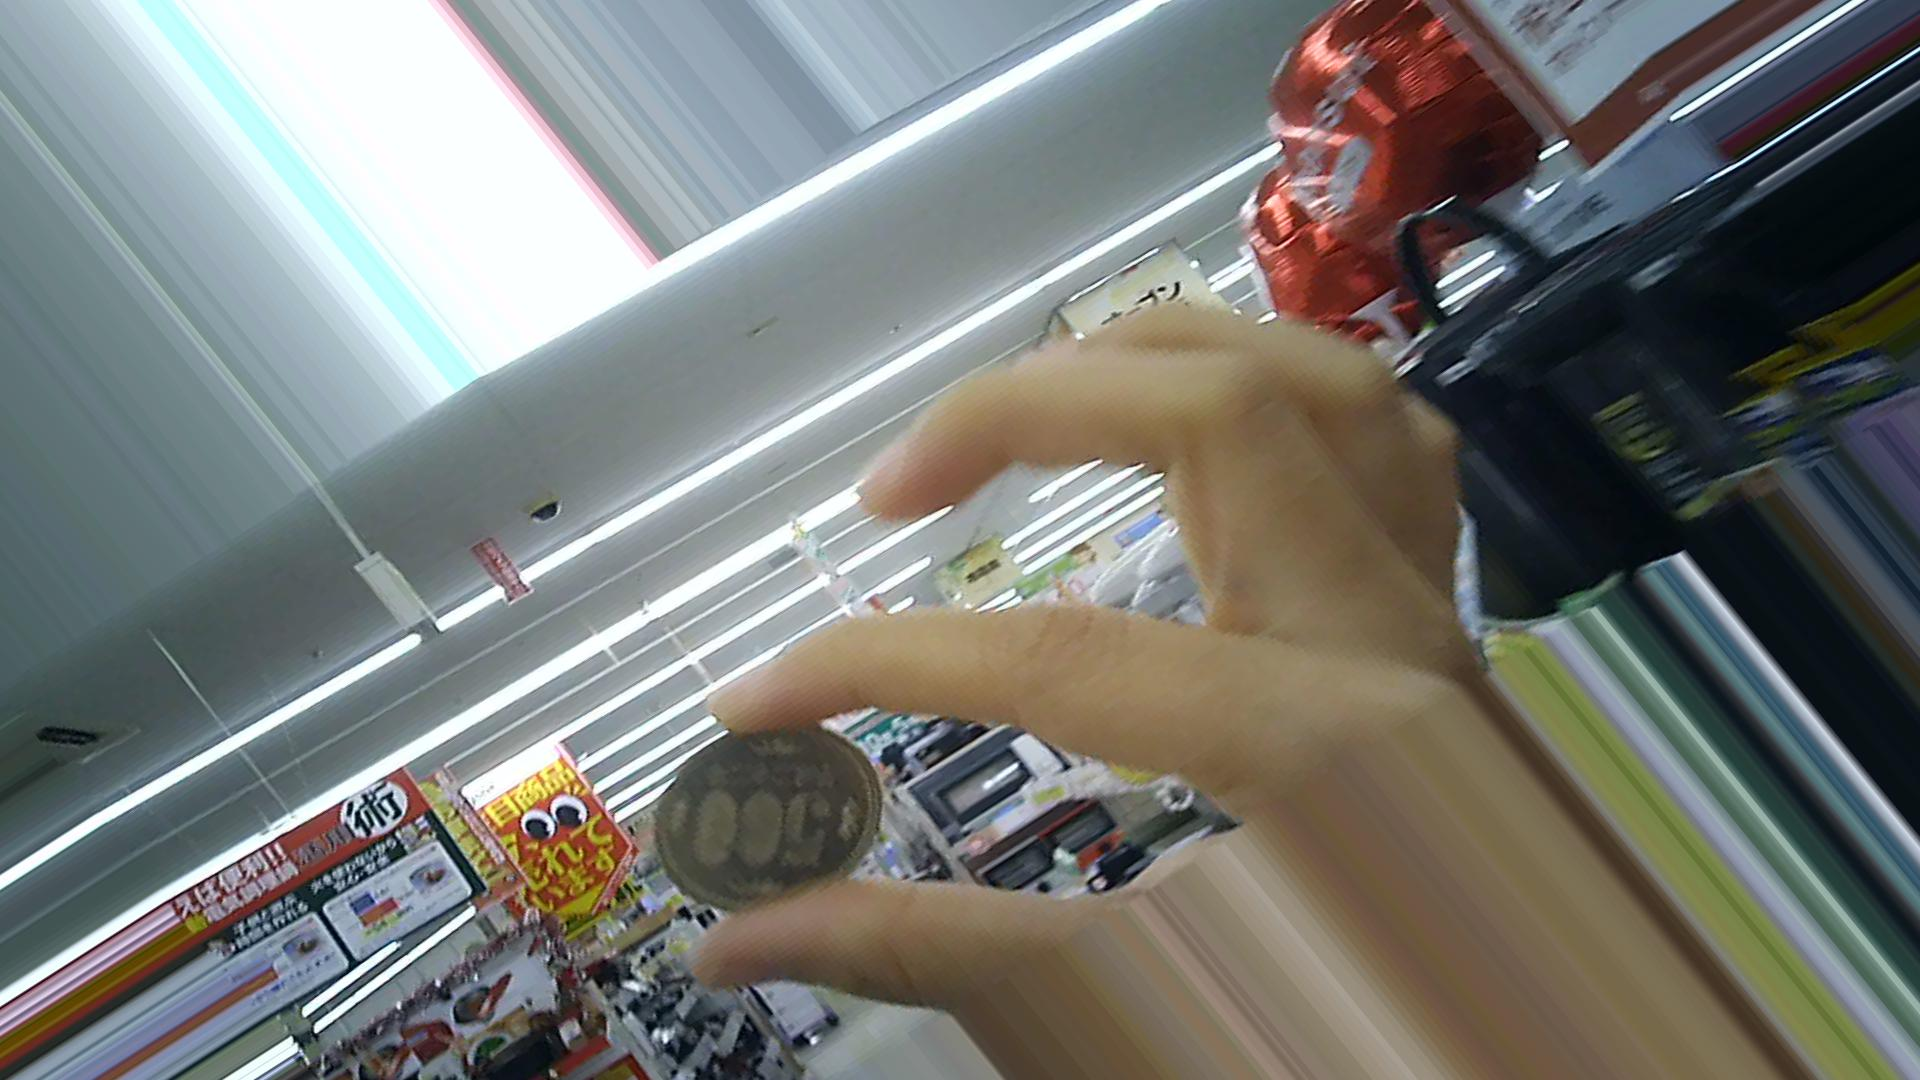500 Yen: (640, 717, 891, 903)
